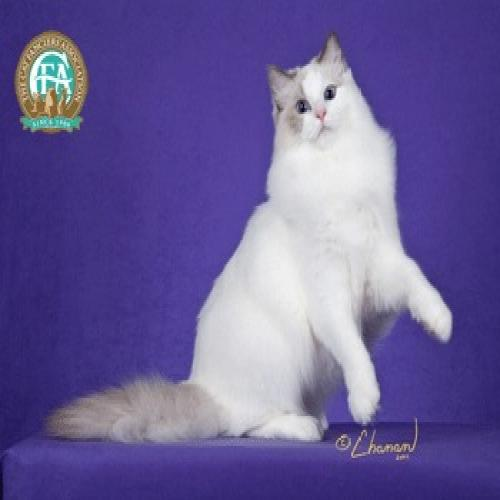ragdoll: (250, 29, 360, 155)
